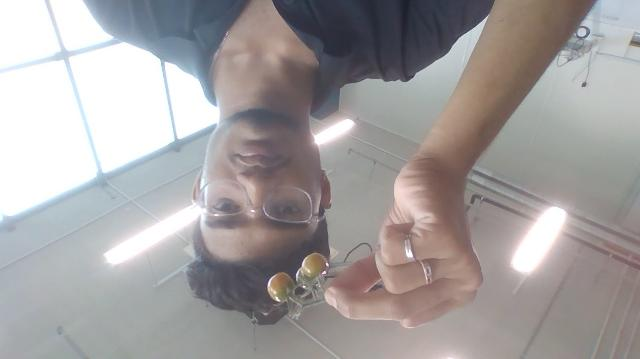Fully Grown: (267, 272, 296, 303), (300, 251, 328, 280)
